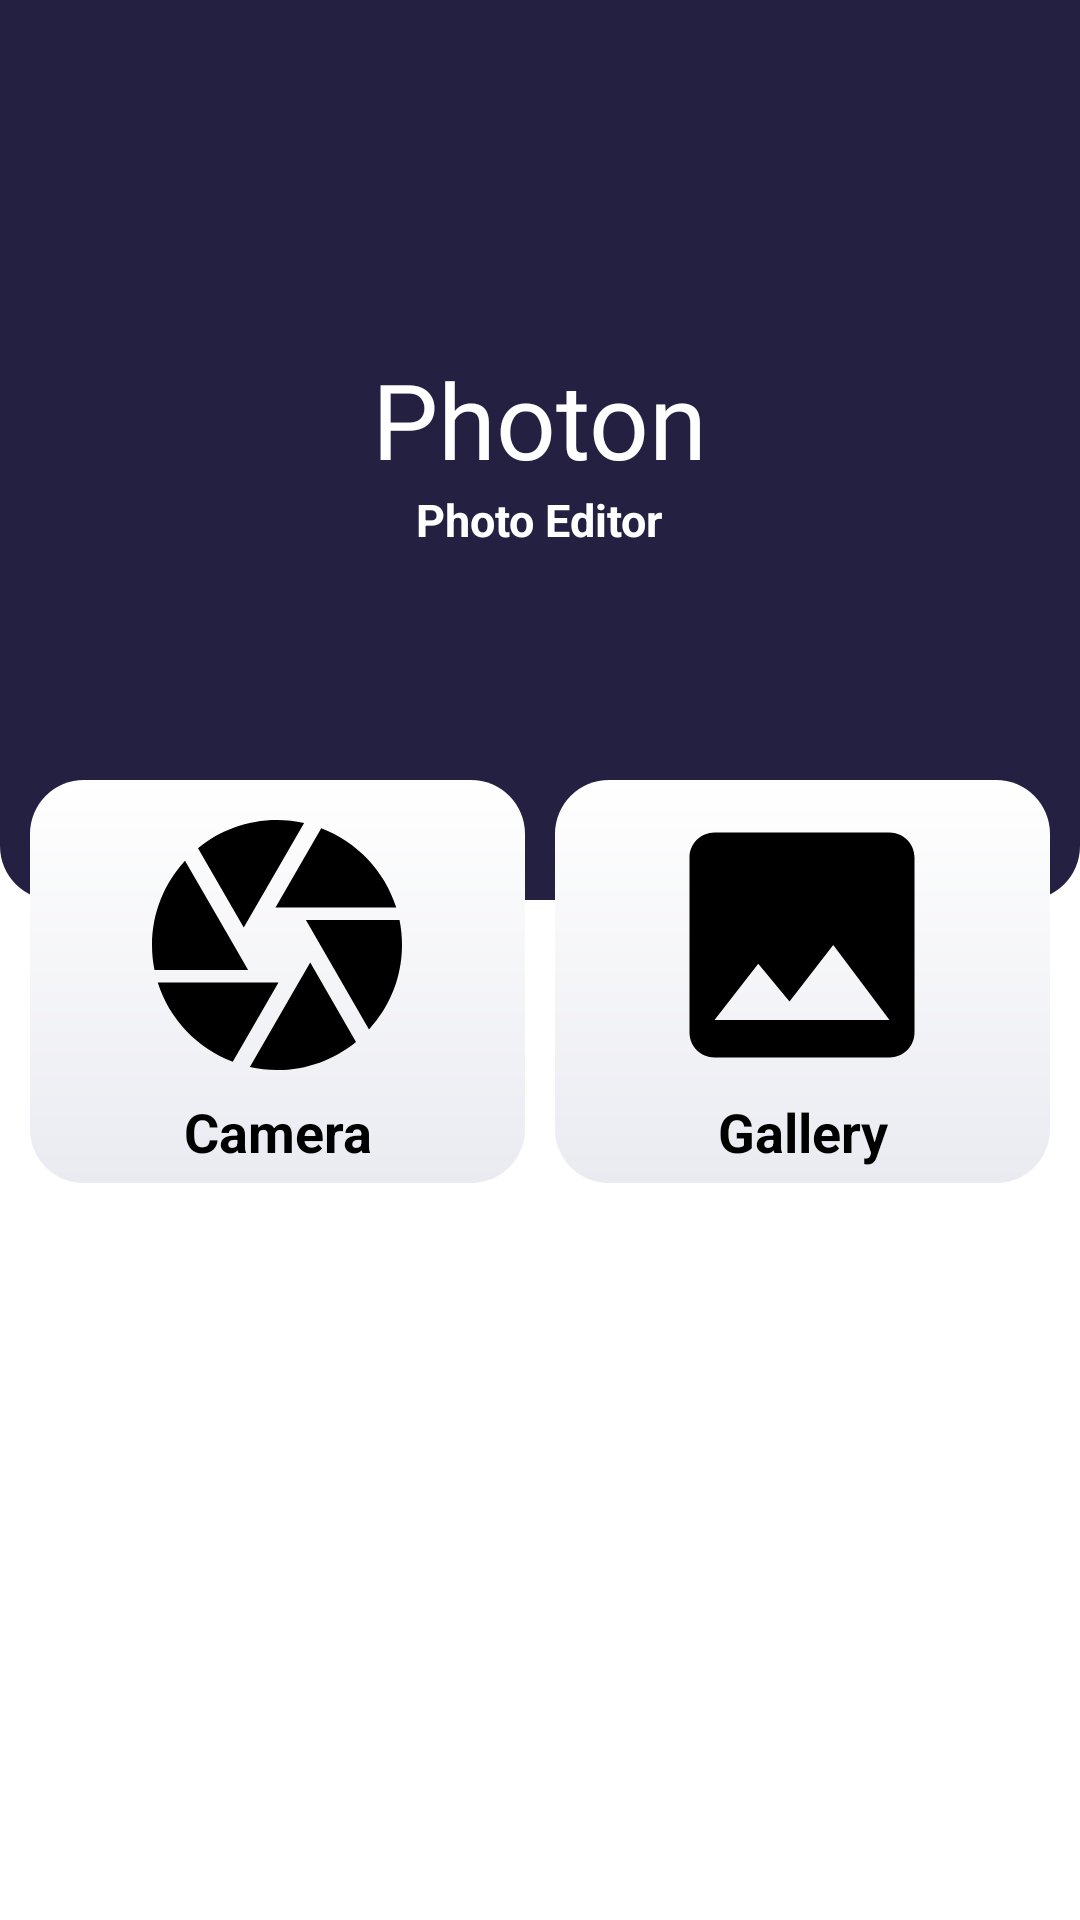

Icons on this 1080px×1920px Android screen, each with its box as (x1, y1, x2, y2):
capture: (152, 820, 402, 1070)
